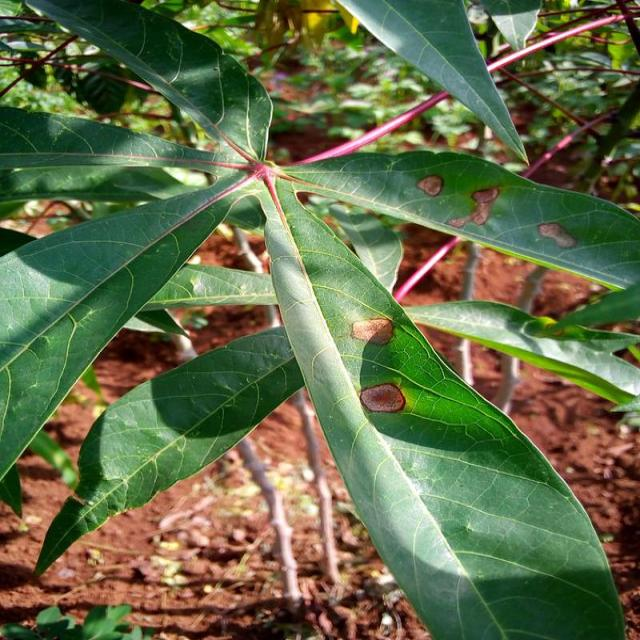cassava leaf: (1, 0, 637, 637), (258, 172, 628, 638), (32, 323, 306, 577)
